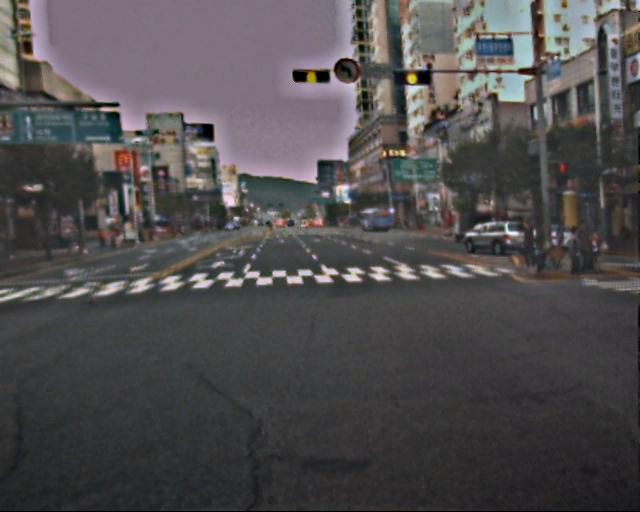person: (529, 217, 552, 279), (572, 220, 592, 277), (565, 229, 585, 281), (519, 217, 539, 267)
